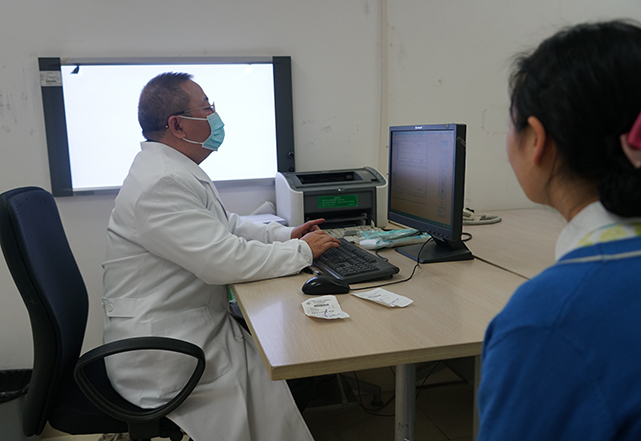rightmask: (131, 70, 227, 170)
